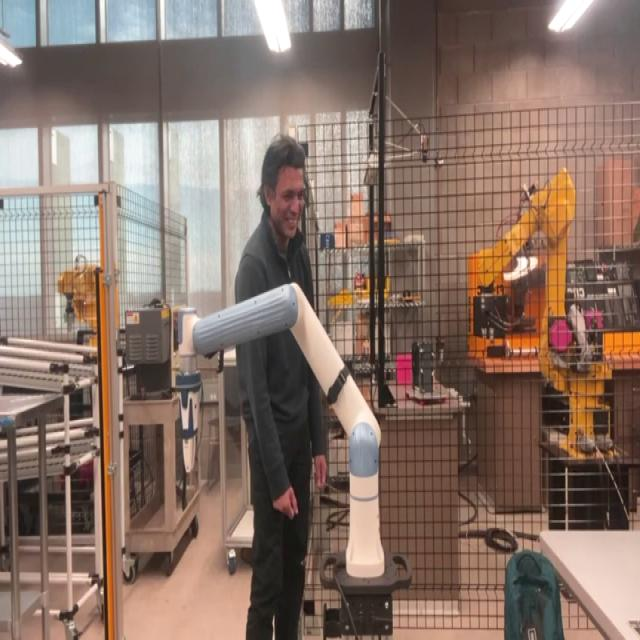robot: (192, 279, 413, 636)
